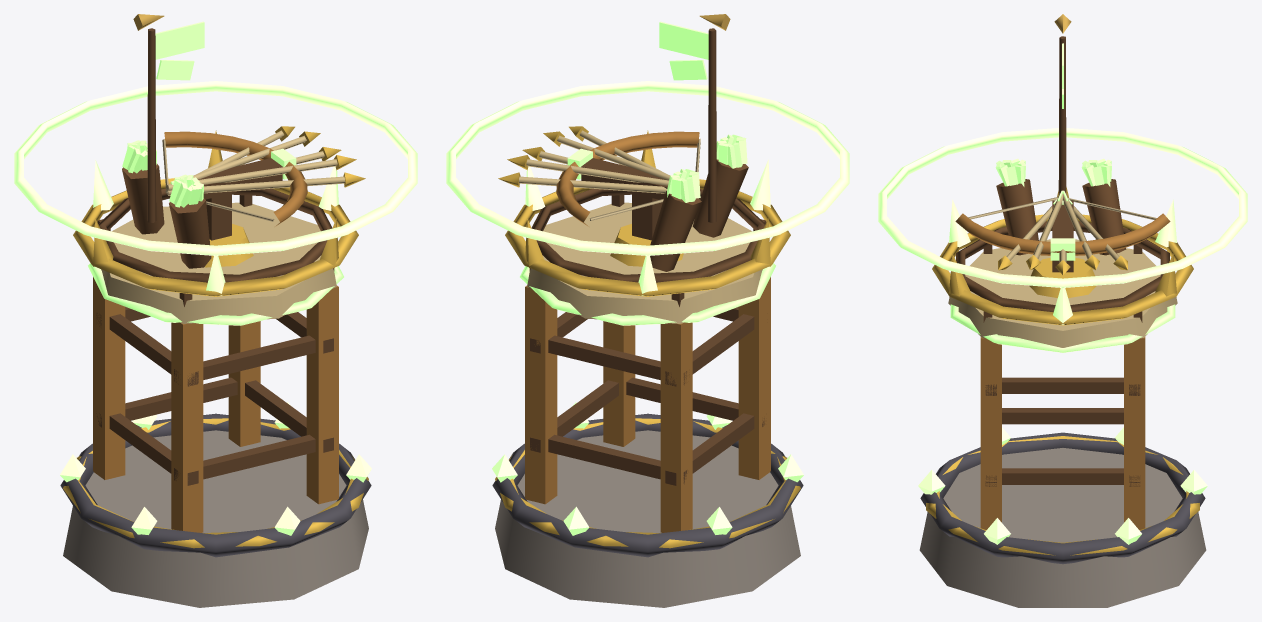
File: tower_archer_arrowRain_ultimate.glb
The picture shows the model from 3 angles, left to right: view 1: azimuth 30°, elevation 25°; view 2: azimuth 150°, elevation 25°; view 3: azimuth 270°, elevation 25°; orthographic projection. The views are drawn at different scales.
Visible parts, largest first — view 1: base, deck, ult_halo, base_rim, post_wn, post_en, post_ws, ult_crown_band, rail, post_es, bow, beam_x_0_n (+20 smaller); view 2: base, ult_halo, deck, base_rim, post_ws, post_es, post_wn, ult_crown_band, rail, post_en, bow, beam_x_0_s (+20 smaller); view 3: base, base_rim, ult_halo, deck, ult_crown_band, post_en, post_es, rail, bow, beam_z_0_e, beam_z_0_w, beam_z_1_e (+10 smaller).
Part boxes in pixels (x1,y1,x2,y2): base: (63,430,368,607); deck: (101,202,336,323); ult_halo: (14,81,417,255); base_rim: (60,413,371,557); post_wn: (171,322,203,532); post_en: (306,285,338,504); post_ws: (93,277,125,479); ult_crown_band: (73,178,358,296); rail: (98,188,337,282); post_es: (228,321,260,446); bow: (164,131,307,226); beam_x_0_n: (174,434,315,480); base: (495,430,800,607); ult_halo: (446,81,849,255); deck: (527,202,762,323); base_rim: (492,413,803,557); post_ws: (660,322,692,532); post_es: (525,285,557,504); post_wn: (738,277,770,479); ult_crown_band: (505,179,790,296); rail: (526,188,765,282); post_en: (603,321,635,446); bow: (556,131,699,226); beam_x_0_s: (548,434,687,484); base: (919,448,1206,607); base_rim: (920,432,1205,564); ult_halo: (878,128,1247,287); deck: (948,239,1177,347); ult_crown_band: (932,214,1193,325); post_en: (980,337,1001,529); post_es: (1124,337,1145,529); rail: (956,221,1169,312); bow: (955,213,1170,255); beam_z_0_e: (1002,468,1123,484); beam_z_0_w: (1002,408,1123,424); beam_z_1_e: (1002,377,1123,393).
Size of the model in its own units: 0.434 by 0.64 by 0.4274.
